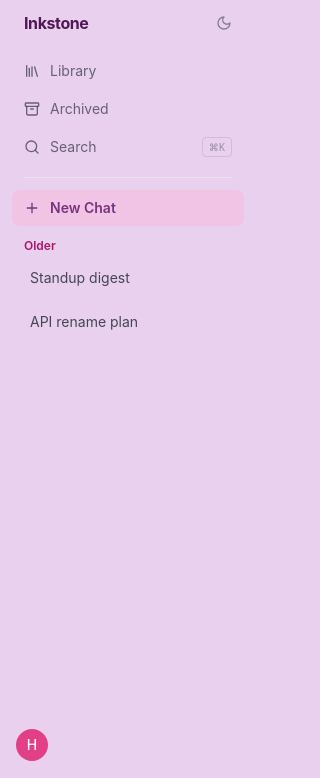
Test case: Sidebar › surfaces a failed rename inline and keeps the typed title editable
The width and height of the screenshot is (320, 778).
Double-click the button "Standup digest": coordinates (84, 278) [12,258,156,298]
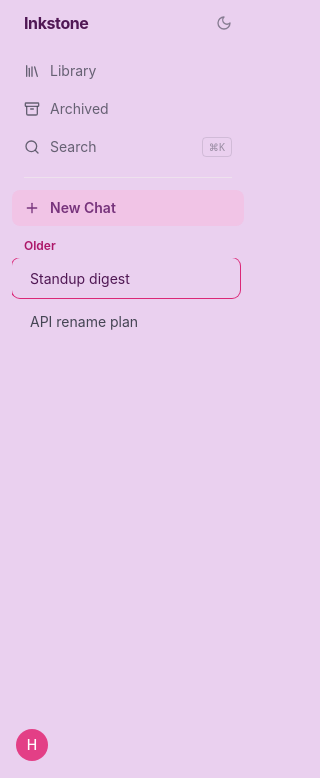
Replace the text in the field named "rename thread" with "Daily standup": coordinates (126, 278) [12,258,240,298]
Then press Enter
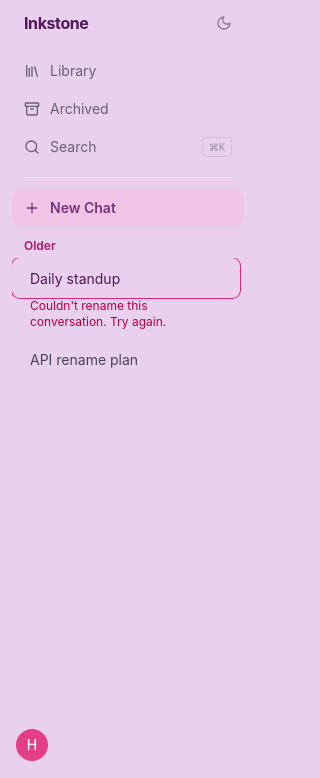
Check: the message shows "Couldn't rename", box [30,298,166,329]
